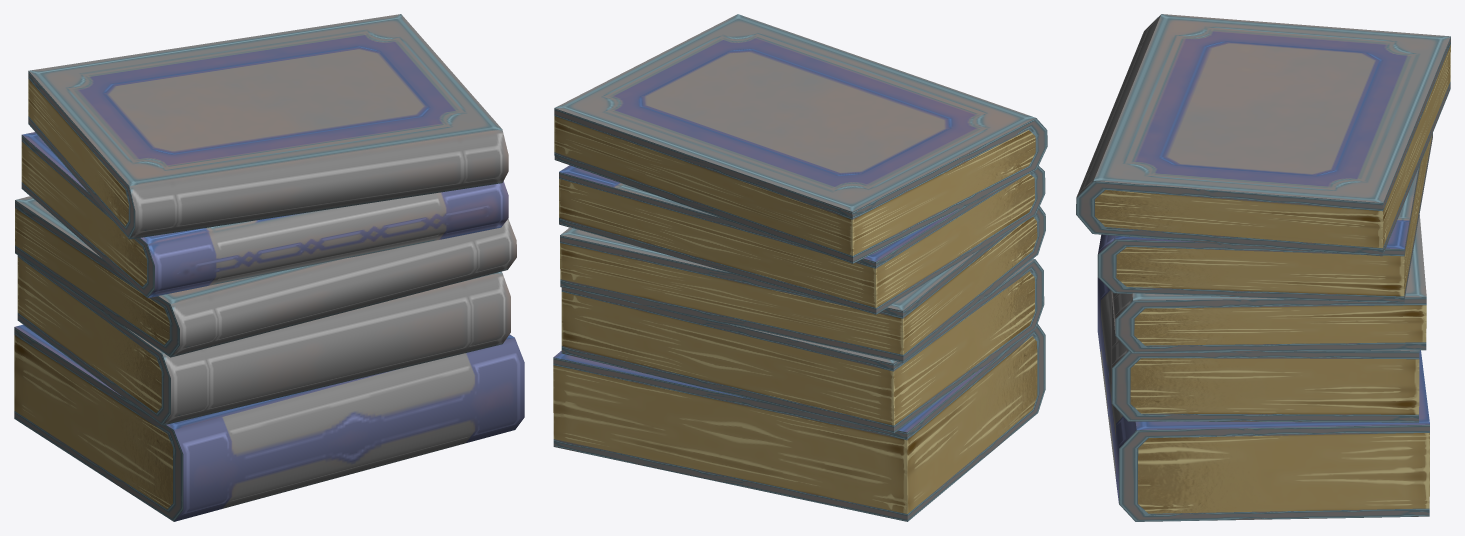
File: Book_Stack_4.fbx
The picture shows the model from 3 angles, left to right: view 1: azimuth 30°, elevation 25°; view 2: azimuth 150°, elevation 25°; view 3: azimuth 270°, elevation 25°; orthographic projection. The views are drawn at different scales.
Parts seen in each view (by area): view 1: Book_Stack_4; view 2: Book_Stack_4; view 3: Book_Stack_4.
Part boxes in pixels (x1,y1,x2,y2): Book_Stack_4: (14,14,524,521); Book_Stack_4: (553,14,1047,521); Book_Stack_4: (1076,14,1450,521).
Size of the model in its own units: 30.01 by 24.29 by 25.26.
